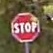stop: (10, 11, 40, 42)
